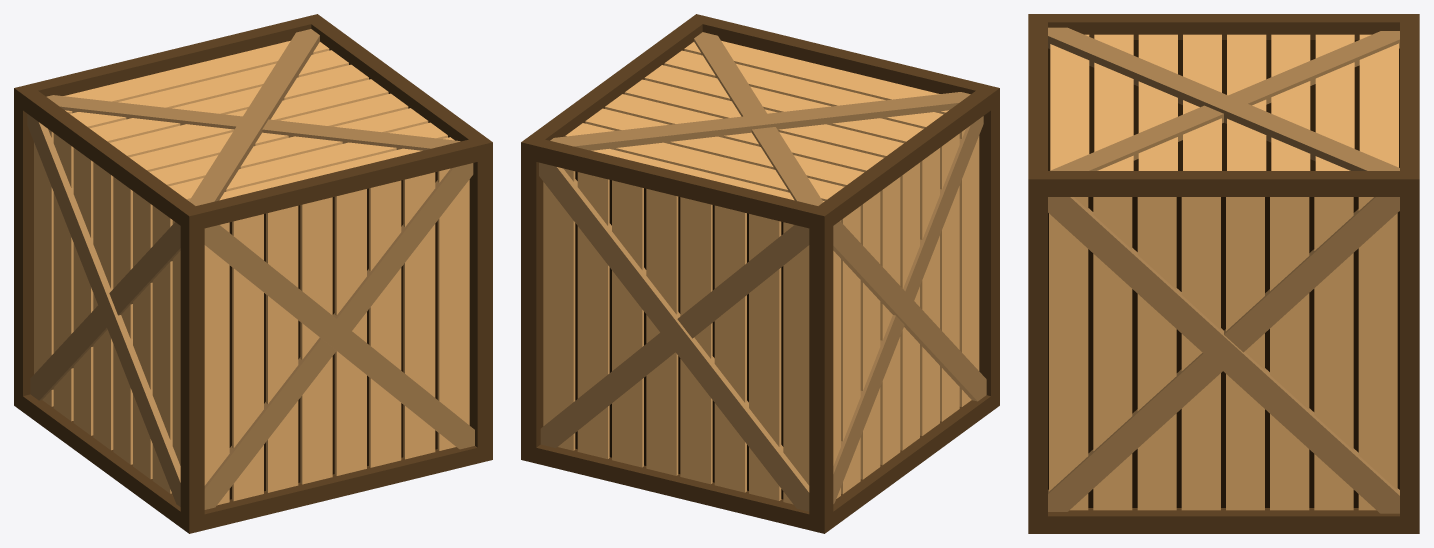
File: Crate_LOD0.fbx
3 renders of one model, left to right at view 1: azimuth 30°, elevation 25°; view 2: azimuth 150°, elevation 25°; view 3: azimuth 270°, elevation 25°, orthographic. The views are drawn at different scales.
Visible parts, largest first — view 1: Lod0; view 2: Lod0; view 3: Lod0.
Part boxes in pixels (bbox=[...]): Lod0: bbox=[14, 14, 492, 533]; Lod0: bbox=[521, 14, 999, 533]; Lod0: bbox=[1028, 14, 1419, 533].
Bounding box in the file's own units: 200 × 200 × 200.
